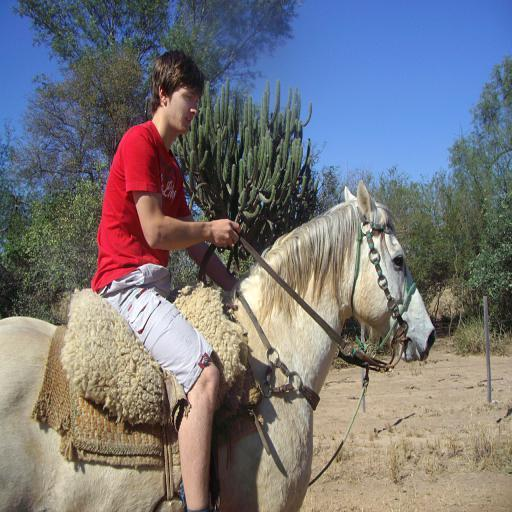horse: (0, 178, 436, 512)
